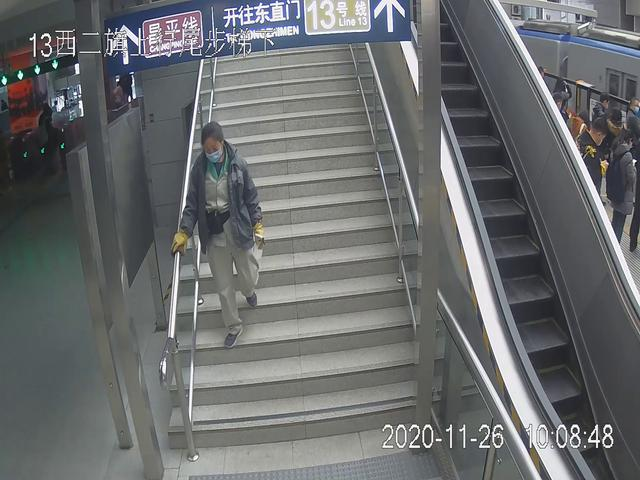person: (170, 117, 267, 349)
